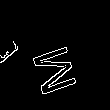M_W: (24, 41, 78, 100)
